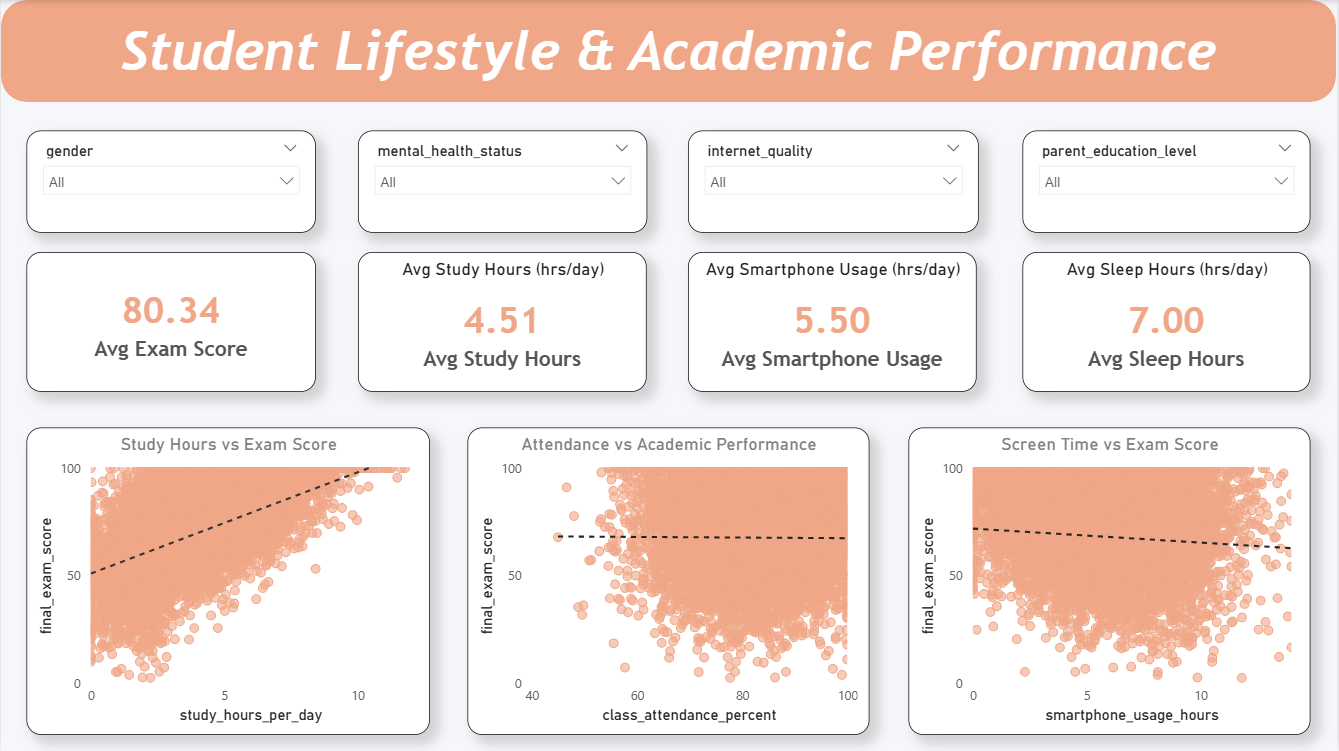

The page's visual inventory and layout, read from the dashboard file:
{"tool":"powerbi","page":{"name":"Academic Performance Overview","canvas":[1280,720],"ordinal":0},"visuals":[{"type":"card","title":"Avg Study Hours (hrs/day)","fields":{"Values":["student_digital_life.Avg Exam Score"]},"box":[24.4,241.6,277.6,133.7],"z":0},{"type":"shape","box":[0,0,1279.9,97.8],"z":1000},{"type":"card","title":"Avg Study Hours (hrs/day)","fields":{"Values":["student_digital_life.Avg Study Hours"]},"box":[342.9,241.1,276.8,134],"z":2000},{"type":"card","title":"Avg Smartphone Usage (hrs/day)","fields":{"Values":["student_digital_life.Avg Smartphone Usage"]},"box":[659.1,241.1,276.8,134],"z":3000},{"type":"card","title":"Avg Sleep Hours (hrs/day)","fields":{"Values":["student_digital_life.Avg Sleep Hours"]},"box":[978.8,241.1,276,134],"z":4000},{"type":"slicer","fields":{"Values":["student_digital_life.gender"]},"box":[24.4,125.1,277.6,97.8],"z":5000},{"type":"scatterChart","title":"Study Hours vs Exam Score","fields":{"X":["student_digital_life.study_hours_per_day"],"Y":["student_digital_life.final_exam_score"]},"box":[24.4,409.9,386.9,294.8],"z":6000},{"type":"scatterChart","title":"Attendance vs Academic Performance","fields":{"X":["student_digital_life.class_attendance_percent"],"Y":["student_digital_life.final_exam_score"]},"box":[447.3,409.9,385.4,294.8],"z":7000},{"type":"scatterChart","title":"Screen Time vs Exam Score","fields":{"X":["student_digital_life.smartphone_usage_hours"],"Y":["student_digital_life.final_exam_score"]},"box":[870.1,409.9,385.4,294.8],"z":8000},{"type":"slicer","fields":{"Values":["student_digital_life.mental_health_status"]},"box":[342.3,125.1,277.6,97.8],"z":9000},{"type":"slicer","fields":{"Values":["student_digital_life.internet_quality"]},"box":[658.7,125.1,279,97.8],"z":10000},{"type":"slicer","fields":{"Values":["student_digital_life.parent_education_level"]},"box":[979.4,125.1,276.1,97.8],"z":11000}]}

Visuals, with their boxes in screenshot pixels (x1, y1, x2, y2), scaled from the page's 1280x720 canvas onto the 1339x751 screenshot:
"Avg Study Hours (hrs/day)" card: x1=26, y1=252, x2=316, y2=391
shape: x1=0, y1=0, x2=1338, y2=102
"Avg Study Hours (hrs/day)" card: x1=359, y1=251, x2=648, y2=391
"Avg Smartphone Usage (hrs/day)" card: x1=689, y1=251, x2=979, y2=391
"Avg Sleep Hours (hrs/day)" card: x1=1024, y1=251, x2=1313, y2=391
slicer - student_digital_life.gender: x1=26, y1=130, x2=316, y2=232
"Study Hours vs Exam Score" scatterChart: x1=26, y1=428, x2=430, y2=735
"Attendance vs Academic Performance" scatterChart: x1=468, y1=428, x2=871, y2=735
"Screen Time vs Exam Score" scatterChart: x1=910, y1=428, x2=1313, y2=735
slicer - student_digital_life.mental_health_status: x1=358, y1=130, x2=648, y2=232
slicer - student_digital_life.internet_quality: x1=689, y1=130, x2=981, y2=232
slicer - student_digital_life.parent_education_level: x1=1025, y1=130, x2=1313, y2=232
